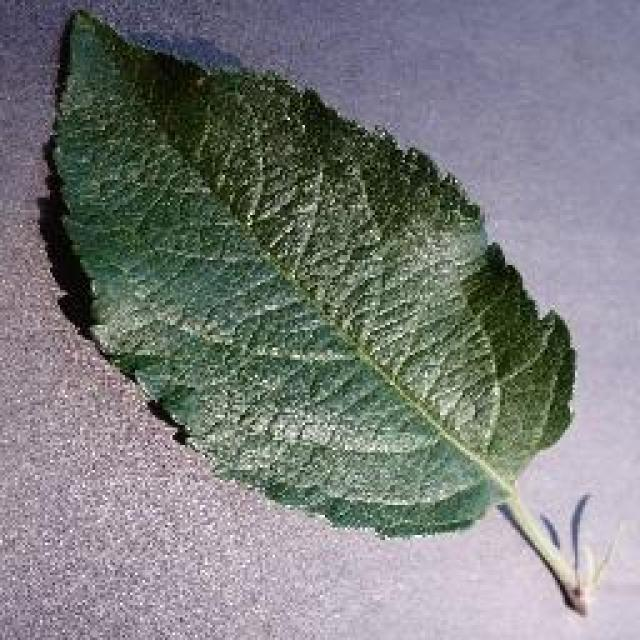apple healthy: (40, 5, 600, 615)
